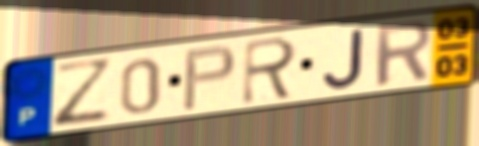0: (118, 56, 167, 117)
J: (321, 26, 367, 91)
P: (180, 42, 239, 114)
R: (239, 34, 301, 107), (372, 18, 434, 89)
Z: (51, 56, 117, 131)
